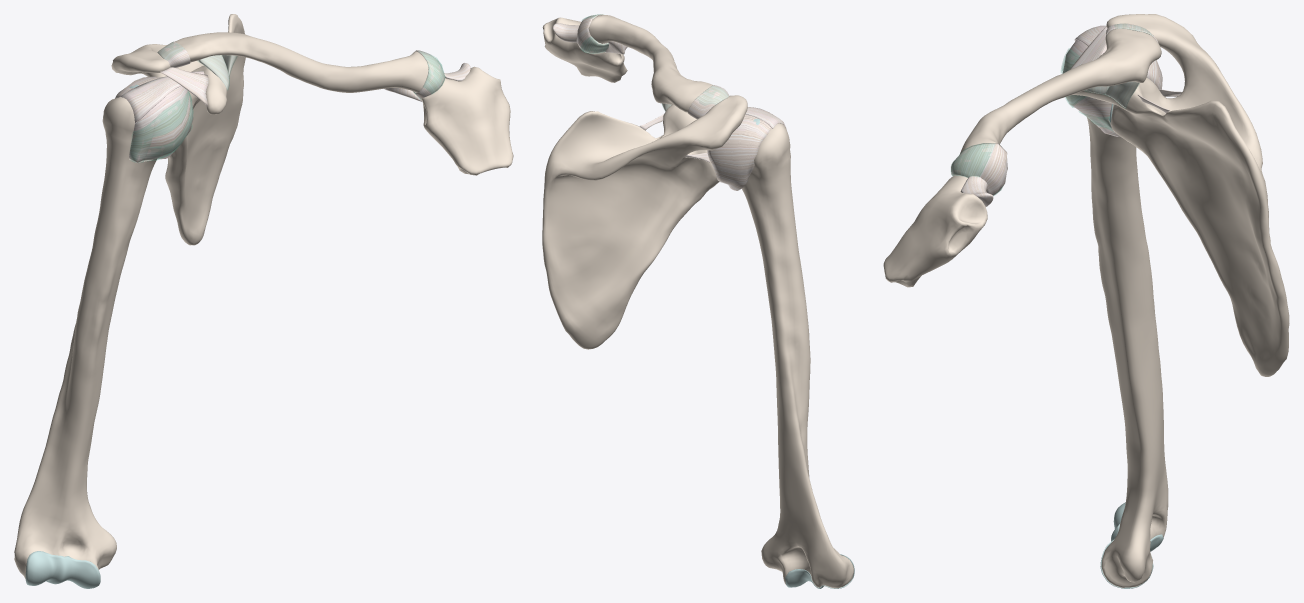
The model's file is open3dmodel-shoulder-and-pectoral-girdle-joints.glb.
3 views of the same model, side by side, from view 1: azimuth 30°, elevation 25°; view 2: azimuth 150°, elevation 25°; view 3: azimuth 270°, elevation 25° (orthographic). The views are drawn at different scales.
Visible parts, largest first — view 1: Humerus.r, Scapula.r, Manubrium of sternum, Clavicle.r, Articular capsule of glenohumeral joint.r, Art cart of humerus distal end.r, Coracohumeral ligament.r, Coraco-acromial ligament.r, Superior glenohumeral ligament.r, Sternoclavicular capsule.r, Coracoclavicular ligament.r; view 2: Scapula.r, Humerus.r, Clavicle.r, Articular capsule of glenohumeral joint.r, Manubrium of sternum, Acromioclavicular capsule.r, Sternoclavicular capsule.r, Art cart of humerus distal end.r; view 3: Scapula.r, Humerus.r, Clavicle.r, Manubrium of sternum, Sternoclavicular capsule.r, Articular capsule of glenohumeral joint.r, Anterior sternoclavicular ligament.r, Coracoclavicular ligament.r, Coraco-acromial ligament.r, Art cart of humerus distal end.r, Interclavicular ligament.r.
Boxes of the visible parts, x1=… form: Humerus.r: x1=14, y1=97, x2=157, y2=580; Scapula.r: x1=111, y1=14, x2=245, y2=245; Manubrium of sternum: x1=421, y1=66, x2=513, y2=175; Clavicle.r: x1=175, y1=32, x2=428, y2=92; Articular capsule of glenohumeral joint.r: x1=115, y1=76, x2=193, y2=163; Art cart of humerus distal end.r: x1=25, y1=551, x2=100, y2=588; Coracohumeral ligament.r: x1=120, y1=71, x2=204, y2=123; Coraco-acromial ligament.r: x1=160, y1=67, x2=208, y2=106; Superior glenohumeral ligament.r: x1=153, y1=91, x2=189, y2=136; Sternoclavicular capsule.r: x1=413, y1=50, x2=445, y2=99; Coracoclavicular ligament.r: x1=198, y1=55, x2=236, y2=89; Scapula.r: x1=542, y1=95, x2=747, y2=349; Humerus.r: x1=742, y1=123, x2=853, y2=588; Clavicle.r: x1=589, y1=15, x2=712, y2=112; Articular capsule of glenohumeral joint.r: x1=707, y1=114, x2=771, y2=190; Manubrium of sternum: x1=542, y1=17, x2=627, y2=82; Acromioclavicular capsule.r: x1=688, y1=85, x2=729, y2=118; Sternoclavicular capsule.r: x1=576, y1=14, x2=608, y2=53; Art cart of humerus distal end.r: x1=785, y1=554, x2=854, y2=588; Scapula.r: x1=1072, y1=14, x2=1289, y2=376; Humerus.r: x1=1087, y1=117, x2=1168, y2=587; Clavicle.r: x1=960, y1=28, x2=1161, y2=153; Manubrium of sternum: x1=883, y1=175, x2=987, y2=287; Sternoclavicular capsule.r: x1=951, y1=143, x2=1007, y2=195; Articular capsule of glenohumeral joint.r: x1=1062, y1=40, x2=1162, y2=136; Anterior sternoclavicular ligament.r: x1=951, y1=143, x2=994, y2=177; Coracoclavicular ligament.r: x1=1085, y1=81, x2=1139, y2=107; Coraco-acromial ligament.r: x1=1070, y1=26, x2=1107, y2=69; Art cart of humerus distal end.r: x1=1100, y1=502, x2=1163, y2=588; Interclavicular ligament.r: x1=960, y1=176, x2=993, y2=206.
Bounding box in the file's own units: 0.276 × 0.3355 × 0.2004.
Materials: 10 (2 with a texture image).
